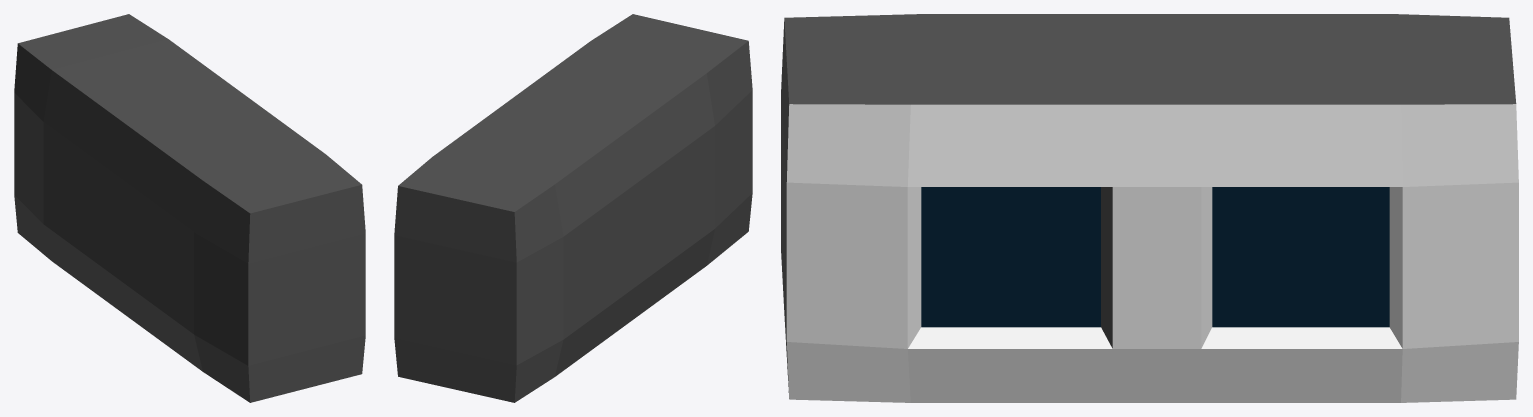
The model's file is Clock.fbx.
3 views of the same model, side by side, from view 1: azimuth 30°, elevation 25°; view 2: azimuth 150°, elevation 25°; view 3: azimuth 270°, elevation 25° (orthographic). The views are drawn at different scales.
Parts seen in each view (by area): view 1: Cube; view 2: Cube; view 3: Cube.
Boxes of the visible parts, x1=… form: Cube: x1=14, y1=14, x2=365, y2=402; Cube: x1=394, y1=14, x2=752, y2=402; Cube: x1=781, y1=14, x2=1518, y2=402.
Size of the model in its own units: 52.04 by 70.33 by 158.
